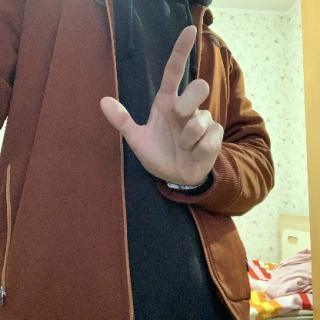LAAM: (97, 20, 234, 192)
